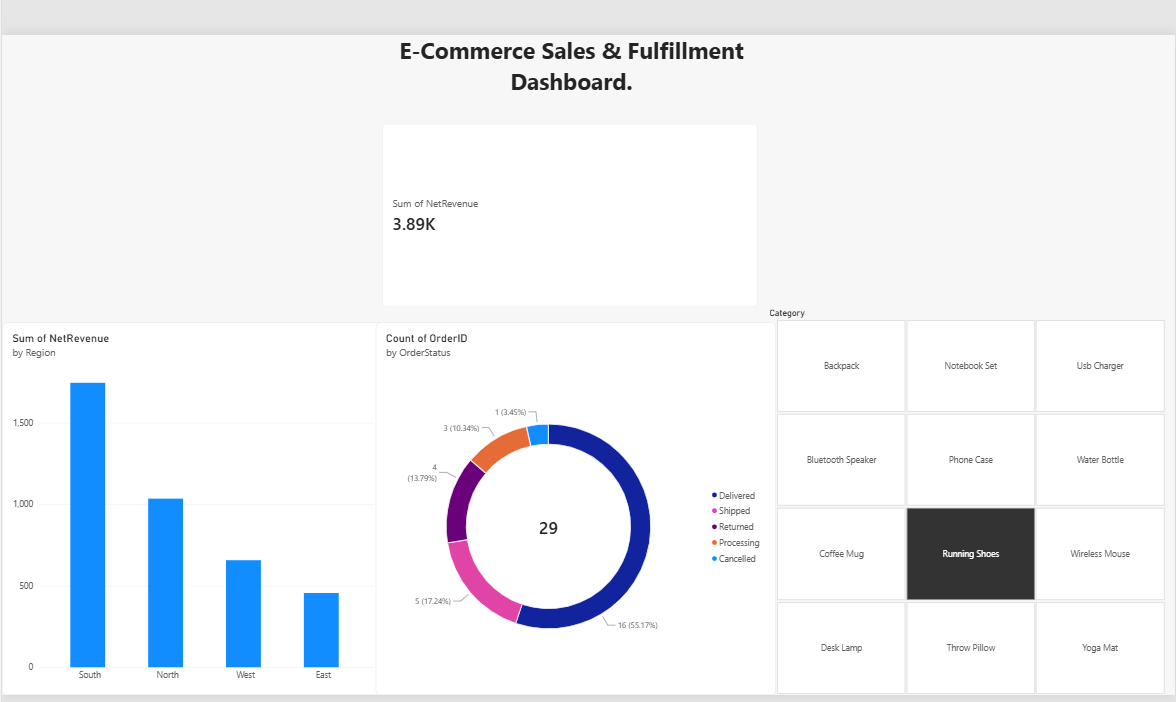

The dashboard page shown, as its layout file describes it:
{"tool":"powerbi","page":{"name":"Page 1","canvas":[1920,1080],"ordinal":0},"visuals":[{"type":"lineClusteredColumnComboChart","fields":{"Category":["ecommerce_sales_cleaned.Region"],"Y":["Sum(ecommerce_sales_cleaned.NetRevenue)"]},"box":[0,471.4,625.7,609.3],"z":0},{"type":"slicer","fields":{"Values":["ecommerce_sales_cleaned.Category"]},"box":[1247.1,447.4,673.1,634],"z":1},{"type":"donutChart","fields":{"Category":["ecommerce_sales_cleaned.OrderStatus"],"Y":["CountNonNull(ecommerce_sales_cleaned.OrderID)"]},"box":[611.3,471.4,654.5,609.3],"z":2},{"type":"cardVisual","fields":{"Data":["Sum(ecommerce_sales_cleaned.NetRevenue)"]},"box":[621.6,146.1,615.4,300.5],"z":3},{"type":"textbox","box":[10,634,626,446],"z":4},{"type":"textbox","box":[615,0,632,471],"z":6},{"type":"textbox","box":[100,100,300,300],"z":7}]}

Visuals, with their boxes on the page's 1920x1080 design canvas (x1, y1, x2, y2). These are canvas units, not pixel positions in the 1176x702 screenshot, which may show the page scaled, cropped or inside an application window:
lineClusteredColumnComboChart - ecommerce_sales_cleaned.Region x Sum(ecommerce_sales_cleaned.NetRevenue): 0,471,626,1081
slicer - ecommerce_sales_cleaned.Category: 1247,447,1920,1081
donutChart - ecommerce_sales_cleaned.OrderStatus x CountNonNull(ecommerce_sales_cleaned.OrderID): 611,471,1266,1081
cardVisual - Sum(ecommerce_sales_cleaned.NetRevenue): 622,146,1237,447
textbox: 10,634,636,1080
textbox: 615,0,1247,471
textbox: 100,100,400,400
